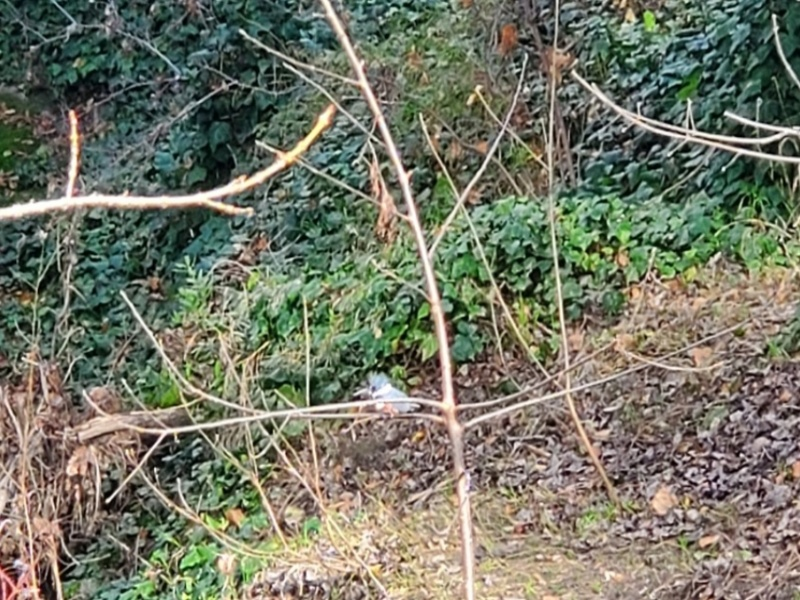kingfisher: (355, 368, 421, 419)
